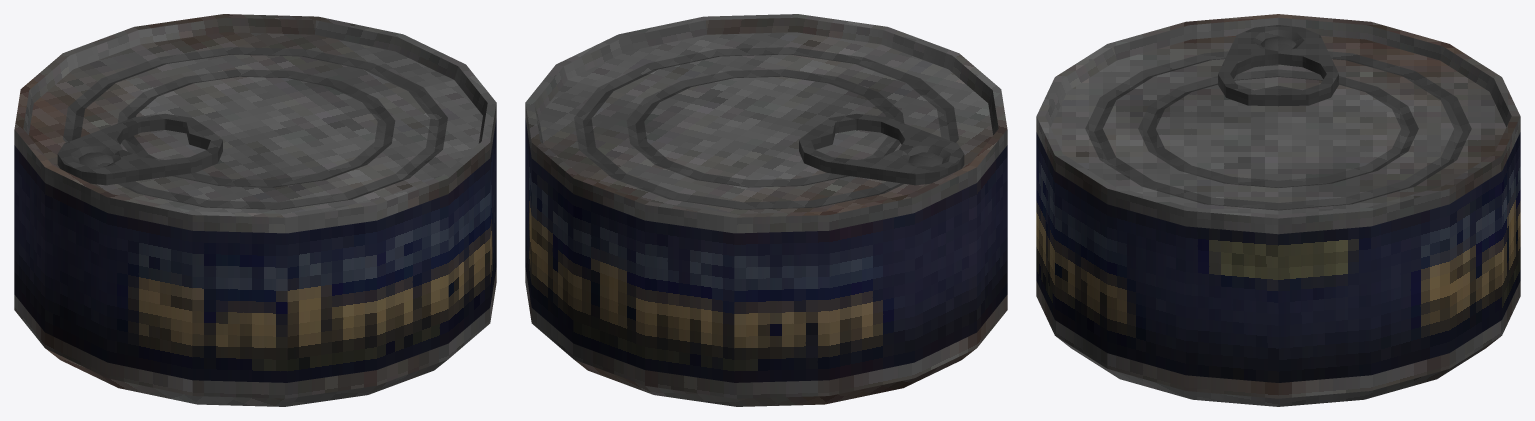
The model's file is canned_food_5.glb.
3 views of the same model, side by side, from view 1: azimuth 30°, elevation 25°; view 2: azimuth 150°, elevation 25°; view 3: azimuth 270°, elevation 25° (orthographic).
Parts seen in each view (by area): view 1: canned_food_5; view 2: canned_food_5; view 3: canned_food_5.
Boxes of the visible parts, x1,y1,x2,y2 form: canned_food_5: [14, 14, 496, 406]; canned_food_5: [525, 14, 1007, 406]; canned_food_5: [1036, 14, 1520, 406].
Bounding box in the file's own units: 0.112 × 0.05 × 0.112.
Materials: 3 (3 with a texture image).
